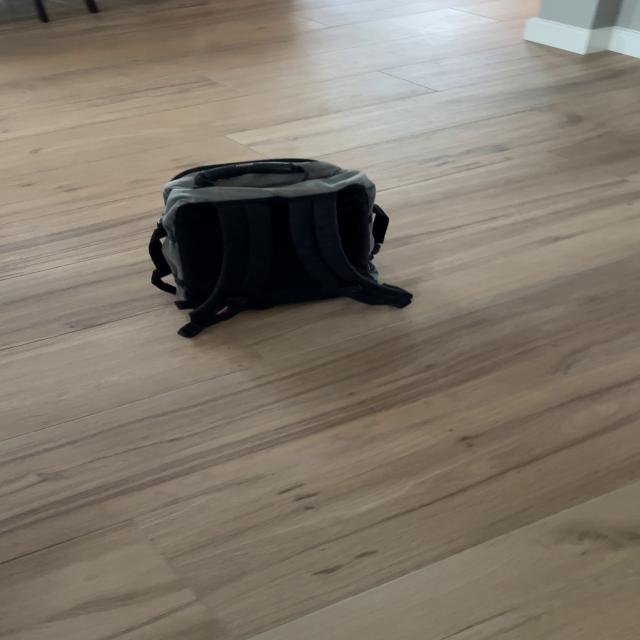backpack: (136, 148, 407, 339)
